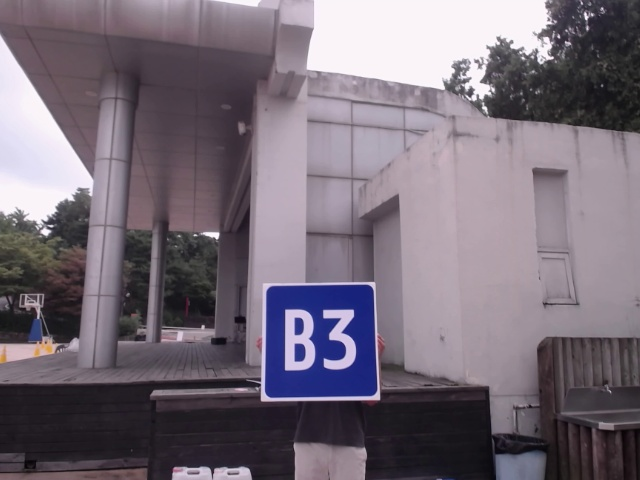delivery_b3: (262, 285, 378, 400)
